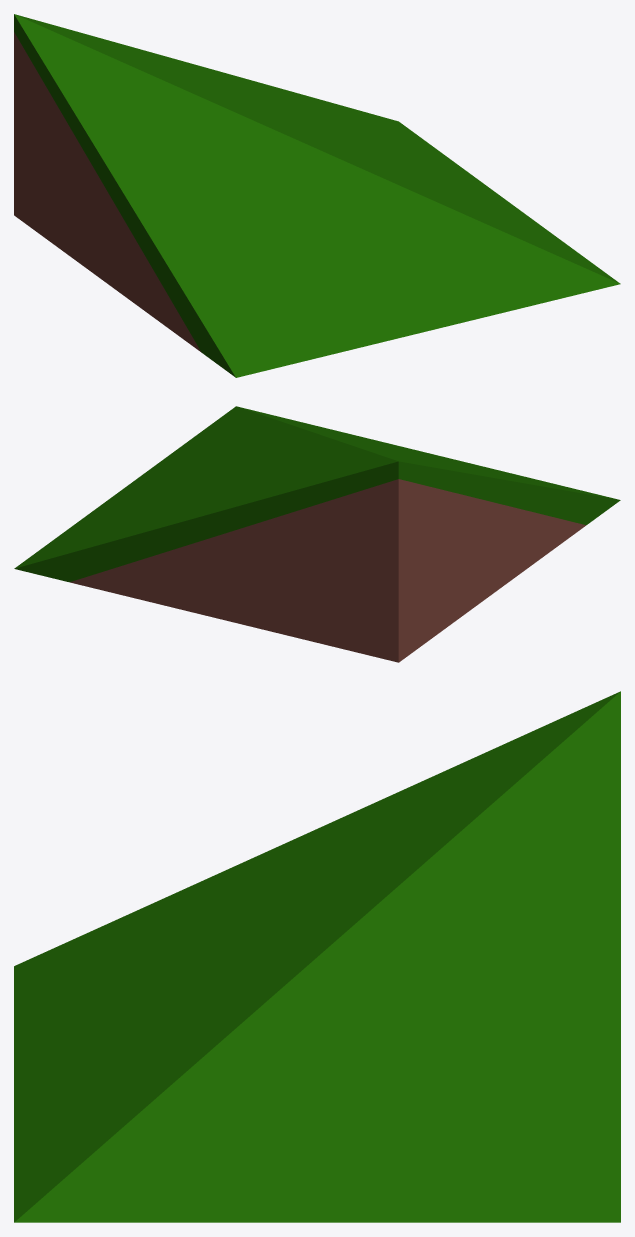
File: Plain_Grass_Slope_Corner.glb
The picture shows the model from 3 angles, top to bottom: view 1: azimuth 30°, elevation 25°; view 2: azimuth 150°, elevation 25°; view 3: azimuth 270°, elevation 25°; orthographic projection. The views are drawn at different scales.
Parts seen in each view (by area): view 1: Plain Grass Slope Corner; view 2: Plain Grass Slope Corner; view 3: Plain Grass Slope Corner.
Part boxes in pixels (x1,y1,x2,y2): Plain Grass Slope Corner: (14,14,620,377); Plain Grass Slope Corner: (14,406,620,662); Plain Grass Slope Corner: (14,691,620,1222).
Bounding box in the file's own units: 2 × 1 × 2.
Materials: 1 (1 with a texture image).
